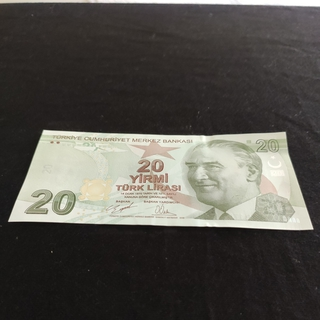20TLFront: (7, 130, 314, 231)
